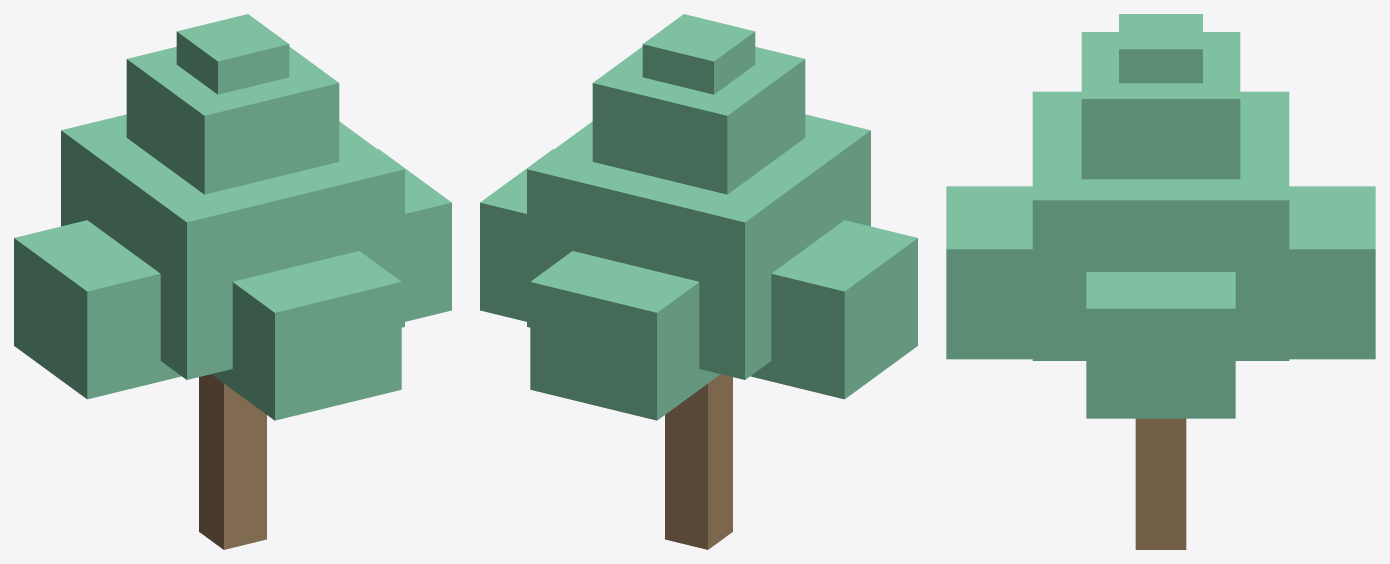
Rendered from Prop_DS_Tree_03.glb.
3 views of the same model, side by side, from view 1: azimuth 30°, elevation 25°; view 2: azimuth 150°, elevation 25°; view 3: azimuth 270°, elevation 25° (orthographic).
Visible parts, largest first — view 1: Cube.001, Cube.005, Cube.006, Cube.003, Cube, Cube.007, Cube.002; view 2: Cube.001, Cube.004, Cube.006, Cube.003, Cube, Cube.007, Cube.002; view 3: Cube.001, Cube.002, Cube.006, Cube.004, Cube.005, Cube, Cube.007.
Part boxes in pixels (x1,y1,x2,y2): Cube.001: [61, 114, 404, 379]; Cube.005: [211, 251, 401, 420]; Cube.006: [126, 46, 339, 194]; Cube.003: [14, 220, 181, 399]; Cube: [199, 374, 266, 549]; Cube.007: [176, 14, 289, 94]; Cube.002: [378, 149, 451, 321]; Cube.001: [527, 114, 870, 379]; Cube.004: [530, 251, 720, 420]; Cube.006: [592, 46, 805, 194]; Cube.003: [750, 220, 917, 399]; Cube: [665, 374, 732, 549]; Cube.007: [642, 14, 755, 94]; Cube.002: [480, 149, 553, 321]; Cube.001: [1032, 91, 1289, 360]; Cube.002: [1086, 272, 1235, 418]; Cube.006: [1081, 32, 1240, 179]; Cube.004: [1289, 186, 1375, 359]; Cube.005: [946, 186, 1032, 359]; Cube: [1135, 418, 1186, 549]; Cube.007: [1119, 14, 1202, 83].
Size of the model in its own units: 2.53 by 3.3 by 2.53.
